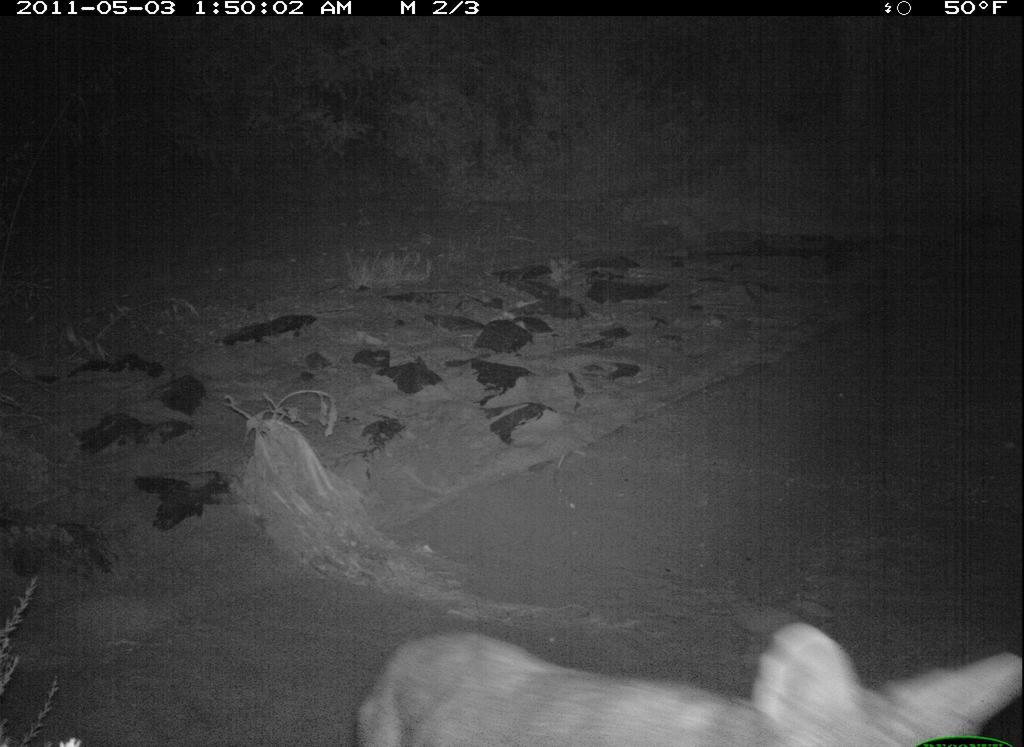coyote: (344, 611, 1024, 747)
